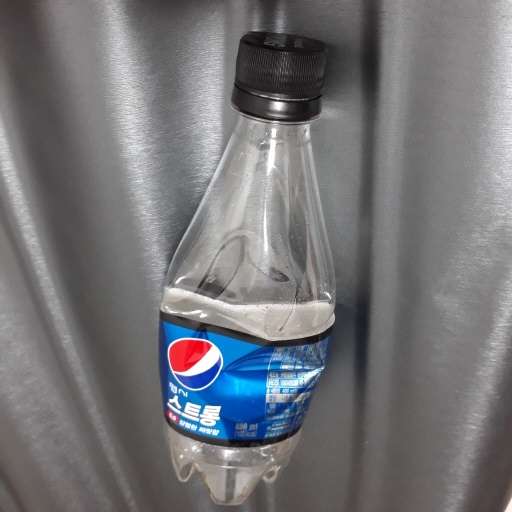Plastic_0: (153, 32, 337, 499)
